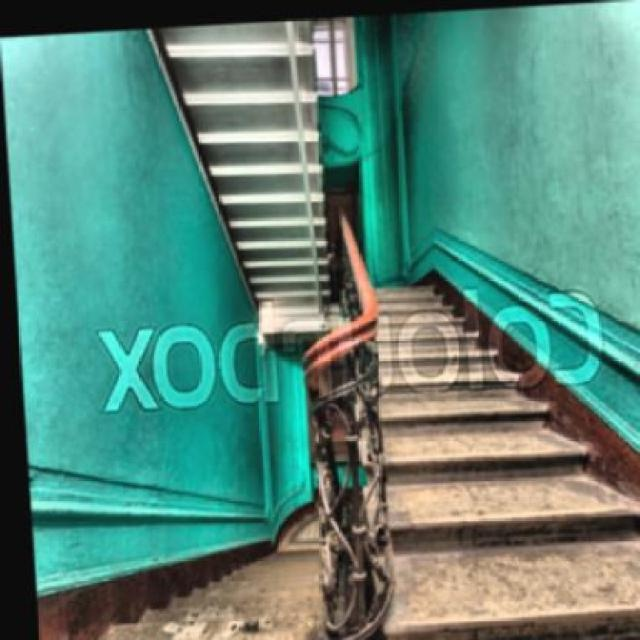stair: (332, 251, 640, 638)
